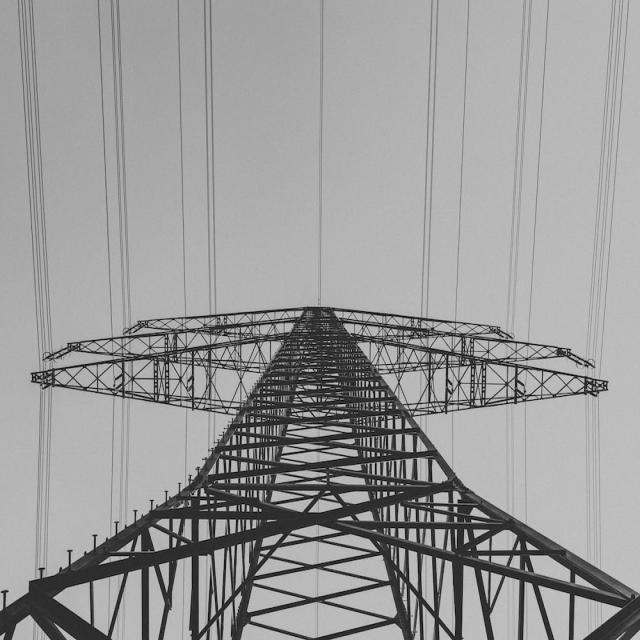transmission tower: (14, 157, 640, 640)
